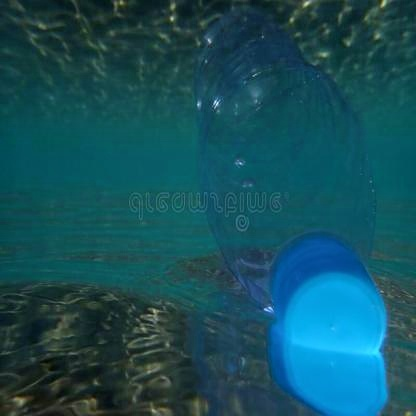pbottle: (188, 6, 390, 364)
